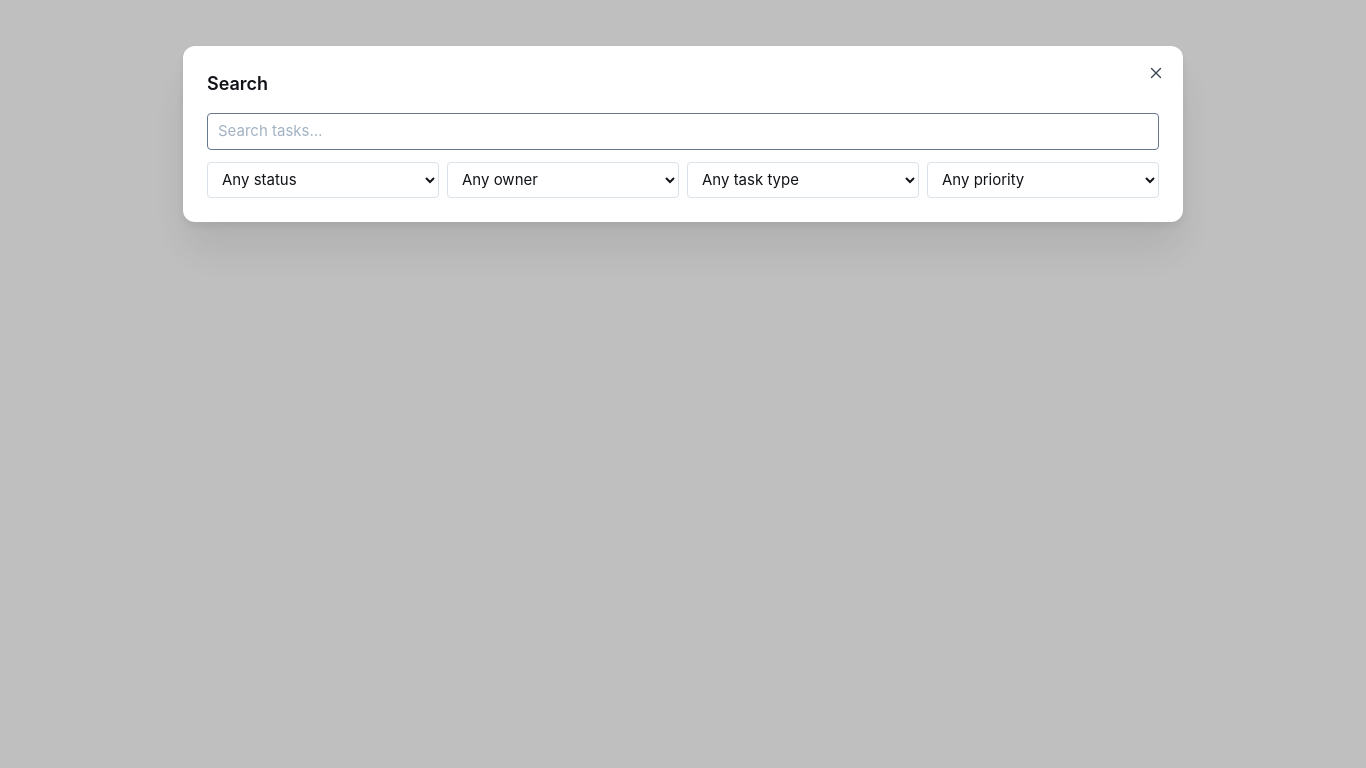
it: search dialog › shows results with their path and the matched words
In the search field: x=683, y=131 [207,113,1159,150], type "kumquat"
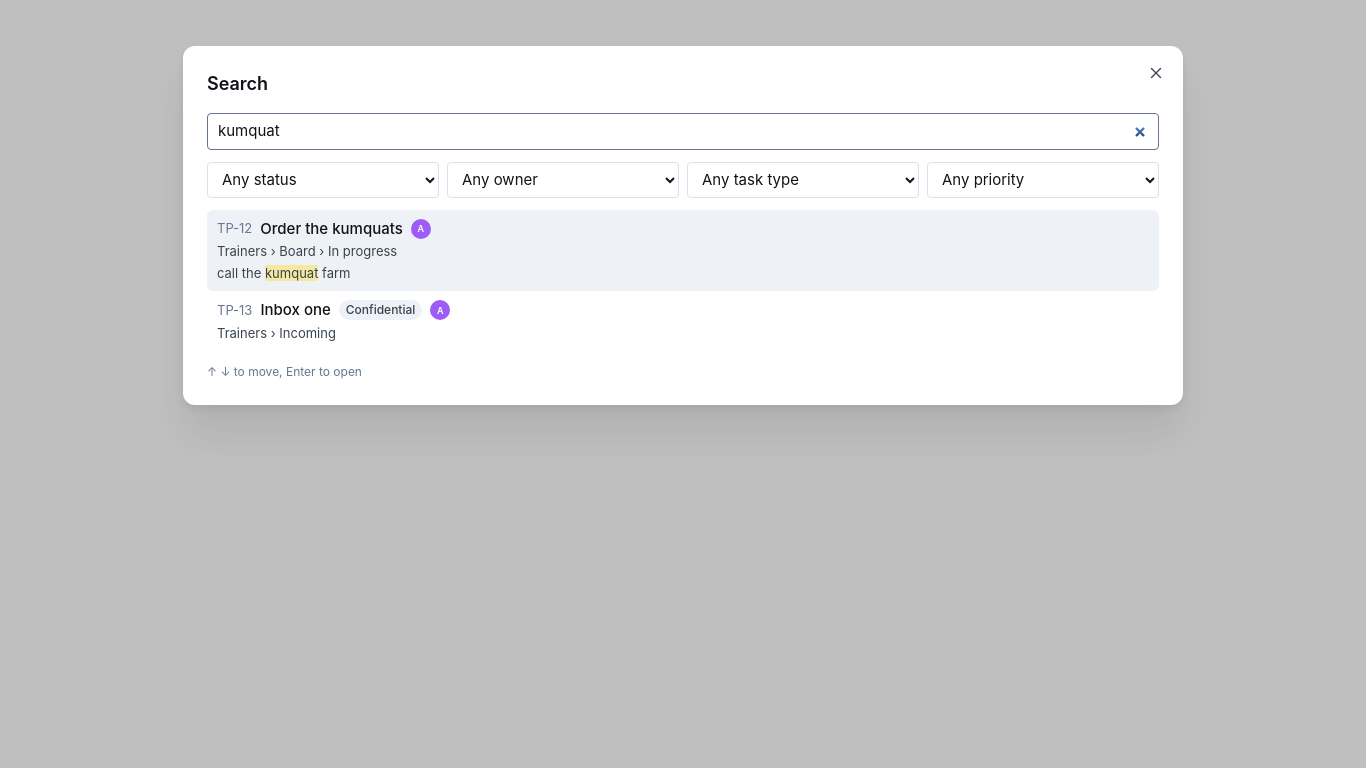
Result: the text "Order the kumquats" is shown at [260,218,403,240]
Result: the text "Trainers › Board › In progress" is shown at [217,242,397,262]
Result: the text "kumquat" is shown at [265,265,318,281]
